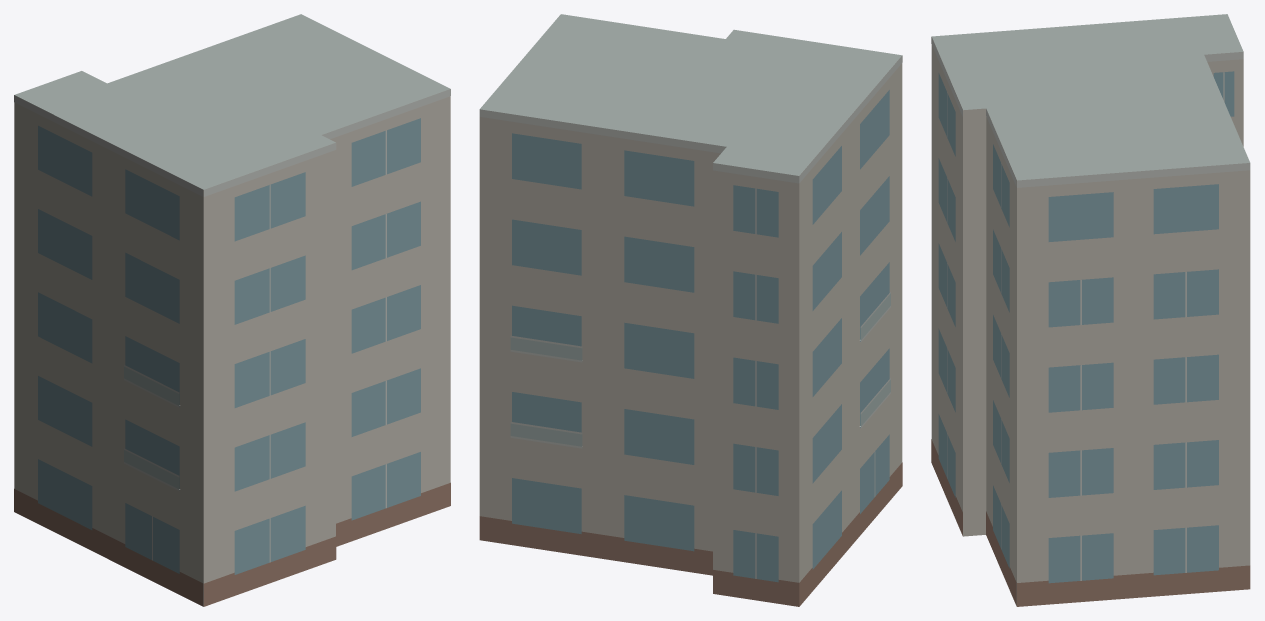
The model's file is survey-upis-32785180.glb.
3 renders of one model, left to right at view 1: azimuth 30°, elevation 25°; view 2: azimuth 150°, elevation 25°; view 3: azimuth 270°, elevation 25°, orthographic. The views are drawn at different scales.
Visible parts, largest first — view 1: survey-upis-32785180.tmp; view 2: survey-upis-32785180.tmp; view 3: survey-upis-32785180.tmp.
Part boxes in pixels (x1,y1,x2,y2): survey-upis-32785180.tmp: (14, 14, 450, 606); survey-upis-32785180.tmp: (479, 14, 902, 606); survey-upis-32785180.tmp: (931, 14, 1250, 606).
Bounding box in the file's own units: 11.82 × 14.1 × 9.56.
